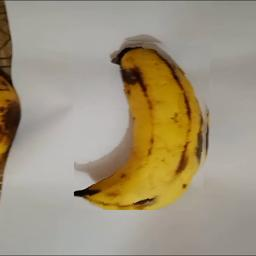Banana Semifresh: (75, 37, 212, 210)
